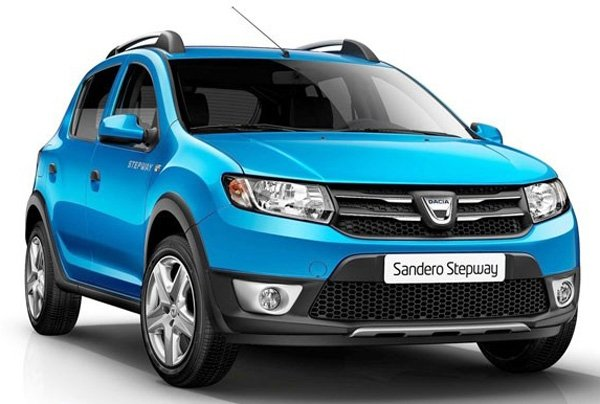car: (22, 35, 584, 386)
